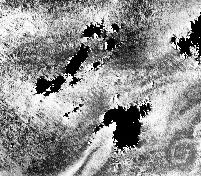CE: (167, 135, 193, 167)
